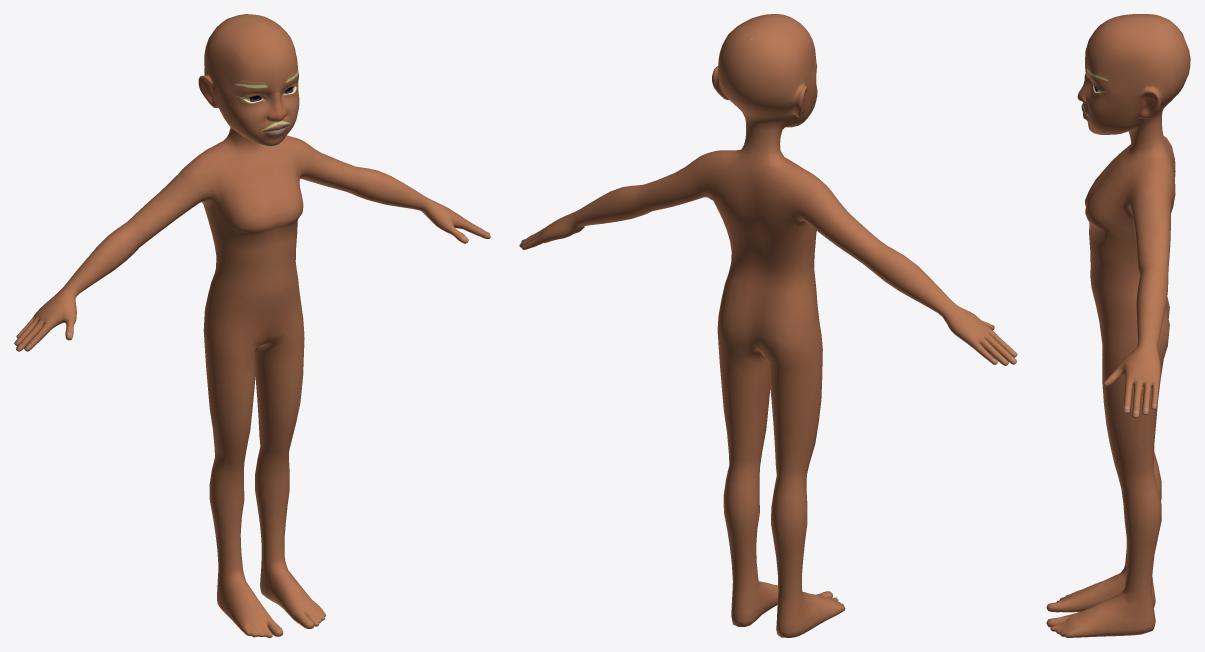
Rendered from frame_0088.glb.
3 views of the same model, side by side, from view 1: azimuth 30°, elevation 25°; view 2: azimuth 150°, elevation 25°; view 3: azimuth 270°, elevation 25° (orthographic). The views are drawn at different scales.
Visible parts, largest first — view 1: frame_0088_head_geo; view 2: frame_0088_head_geo; view 3: frame_0088_head_geo.
Boxes of the visible parts, left/top/right/bottom form: frame_0088_head_geo: left=14, top=14, right=490, bottom=637; frame_0088_head_geo: left=519, top=14, right=1017, bottom=637; frame_0088_head_geo: left=1046, top=14, right=1190, bottom=637.
Bounding box in the file's own units: 1.28 × 1.5 × 0.3253.
Materials: 3 (3 with a texture image).
